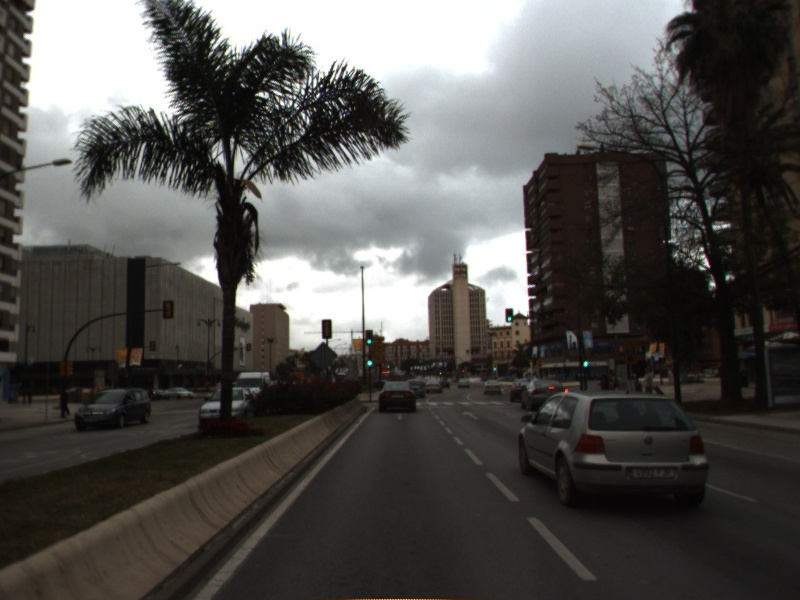STRAIGHT: (459, 409, 482, 422)
